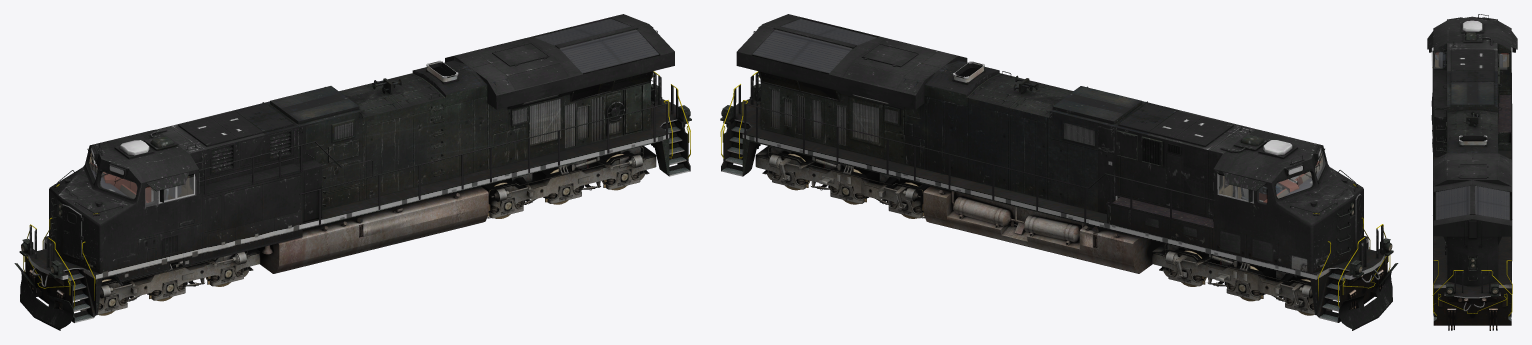
Rendered from general_electric_es44ac_black.glb.
3 views of the same model, side by side, from view 1: azimuth 30°, elevation 25°; view 2: azimuth 150°, elevation 25°; view 3: azimuth 270°, elevation 25° (orthographic). The views are drawn at different scales.
Parts seen in each view (by area): view 1: DrawCall_0027_6, DrawCall_0028_41, DrawCall_0029_8, DrawCall_163_0, DrawCall_0030_10, DrawCall_0047_26, DrawCall_0152_24, DrawCall_0026_4; view 2: DrawCall_0027_6, DrawCall_0028_41, DrawCall_0029_8, DrawCall_163_0, DrawCall_0047_26, DrawCall_0030_10, DrawCall_0026_4, DrawCall_0152_24; view 3: DrawCall_0027_6, DrawCall_0028_41, DrawCall_0029_8, DrawCall_0030_10, DrawCall_0026_4, DrawCall_0152_24.
Boxes of the visible parts, x1,y1,x2,y2 form: DrawCall_0027_6: [29, 14, 678, 315]; DrawCall_0028_41: [14, 60, 691, 330]; DrawCall_0029_8: [23, 26, 690, 322]; DrawCall_163_0: [481, 146, 656, 218]; DrawCall_0030_10: [68, 18, 689, 321]; DrawCall_0047_26: [75, 249, 260, 314]; DrawCall_0152_24: [90, 157, 199, 206]; DrawCall_0026_4: [89, 152, 193, 202]; DrawCall_0027_6: [733, 14, 1383, 315]; DrawCall_0028_41: [720, 60, 1398, 330]; DrawCall_0029_8: [720, 26, 1390, 322]; DrawCall_163_0: [755, 146, 930, 218]; DrawCall_0047_26: [1152, 243, 1337, 314]; DrawCall_0030_10: [722, 19, 1344, 321]; DrawCall_0026_4: [1219, 153, 1322, 203]; DrawCall_0152_24: [1219, 151, 1325, 202]; DrawCall_0027_6: [1427, 14, 1517, 293]; DrawCall_0028_41: [1433, 32, 1511, 325]; DrawCall_0029_8: [1428, 17, 1517, 330]; DrawCall_0030_10: [1433, 186, 1511, 320]; DrawCall_0026_4: [1435, 52, 1509, 67]; DrawCall_0152_24: [1431, 48, 1508, 69].
Bounding box in the file's own units: 21.77 × 4.99 × 3.47.
26 materials, 25 textured.
